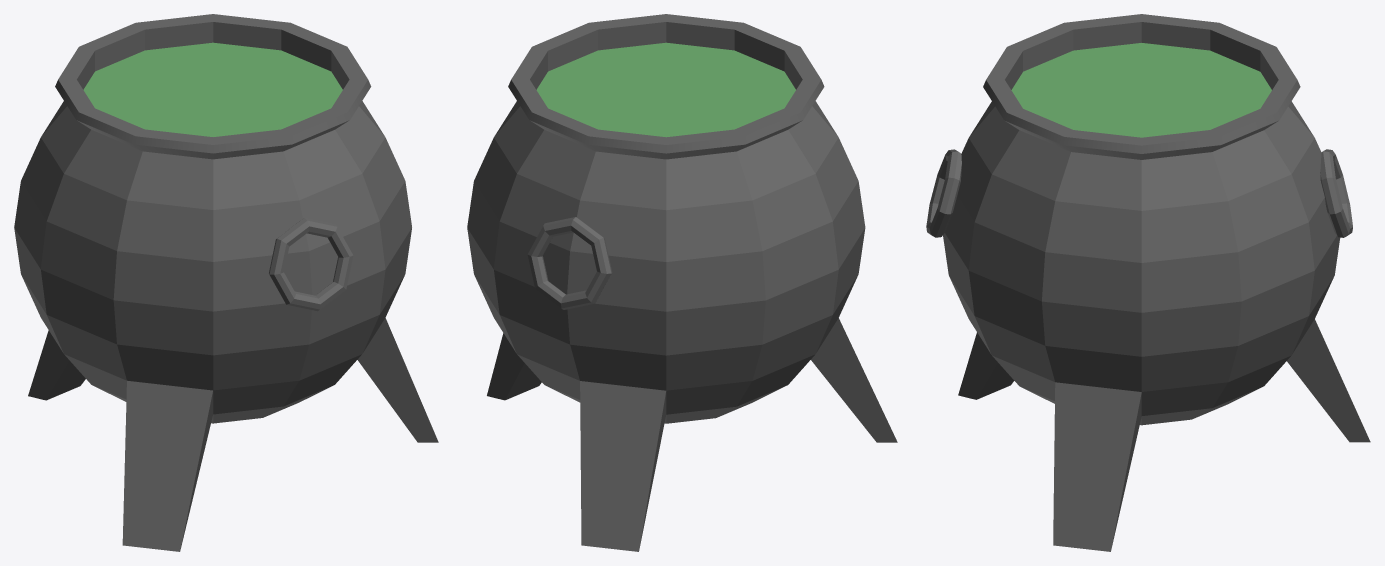
The model's file is SM_Chaudron 1.fbx.
The picture shows the model from 3 angles, left to right: view 1: azimuth 30°, elevation 25°; view 2: azimuth 150°, elevation 25°; view 3: azimuth 270°, elevation 25°; orthographic projection.
Visible parts, largest first — view 1: Chaudron; view 2: Chaudron; view 3: Chaudron.
Part boxes in pixels (x1,y1,x2,y2): Chaudron: [14, 14, 438, 551]; Chaudron: [467, 14, 897, 551]; Chaudron: [926, 14, 1370, 551].
Bounding box in the file's own units: 2.13 × 2.08 × 2.22.
